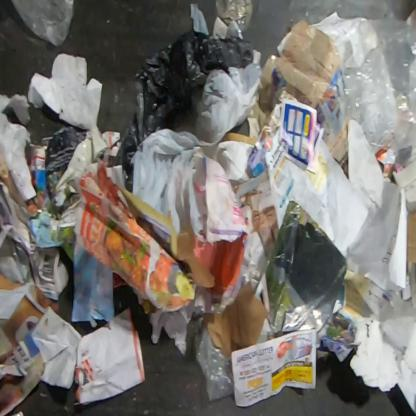cardboard: (27, 52, 109, 162), (202, 277, 268, 358), (45, 125, 100, 209), (0, 92, 37, 204), (192, 132, 257, 187), (407, 209, 416, 265)
rigid_plastic: (215, 0, 253, 33)
soft_plastic: (130, 63, 261, 243), (116, 30, 255, 193), (342, 16, 415, 155), (186, 314, 234, 402), (9, 0, 74, 48), (212, 16, 244, 39)
